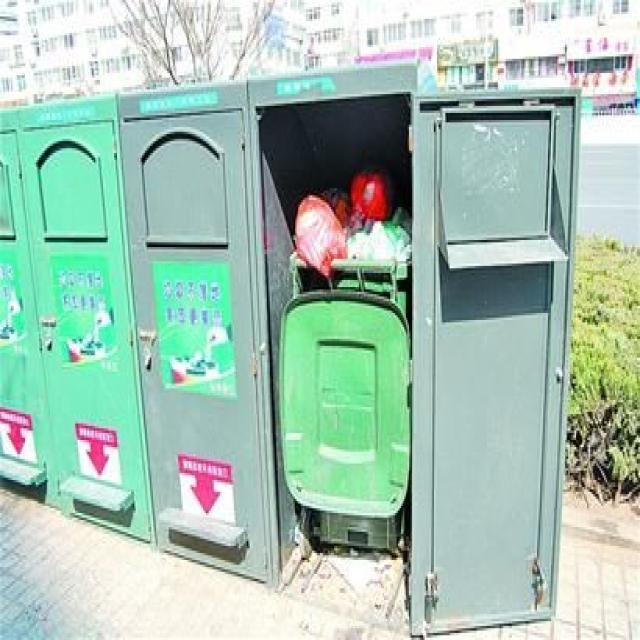overflow: (278, 170, 412, 550)
